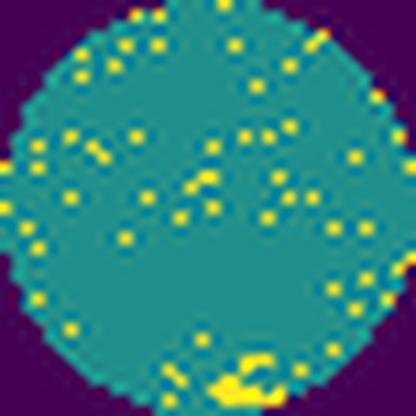Edge-Loc: (209, 373, 288, 406)
